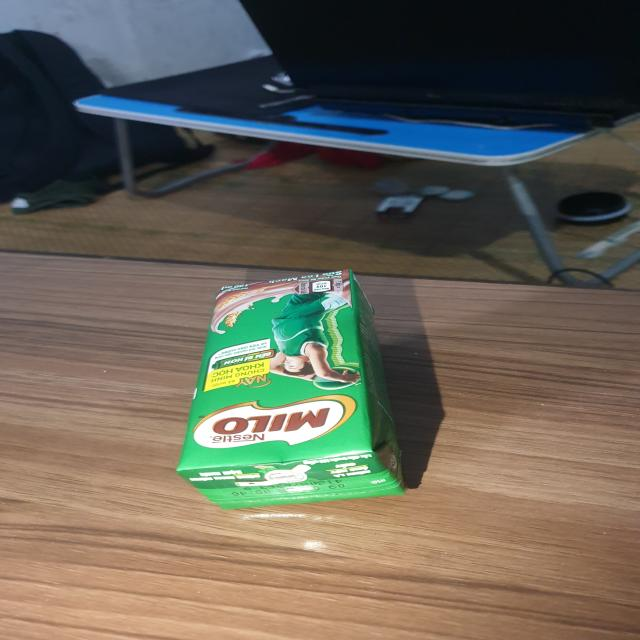Milo: (176, 266, 413, 506)
